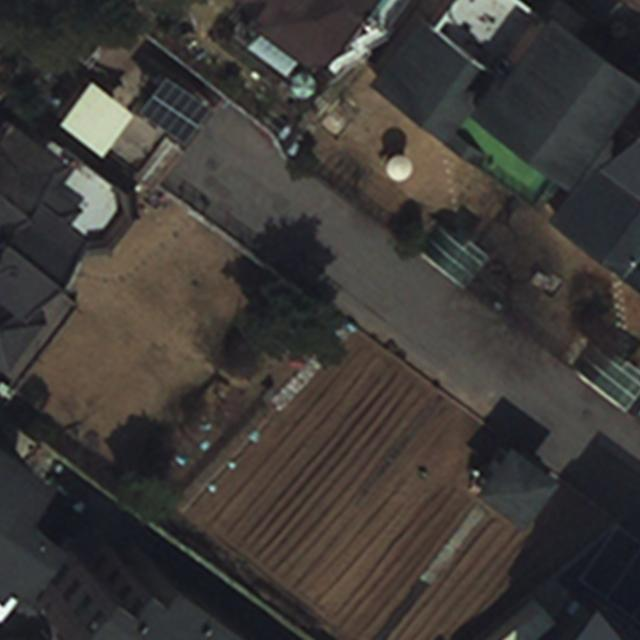panel: (138, 73, 215, 148)
